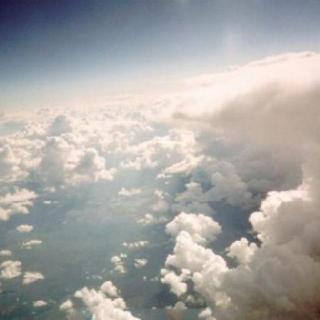Cumulus: (0, 48, 320, 320)
